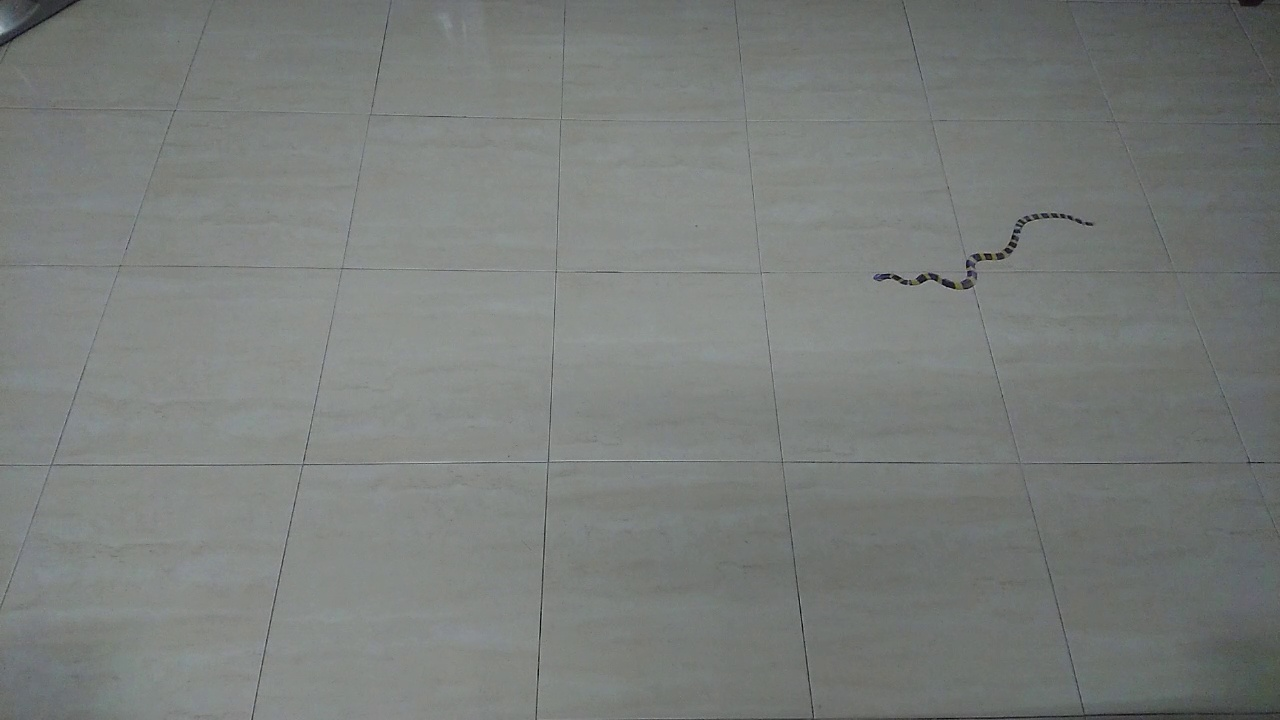snake: (865, 202, 1100, 298)
